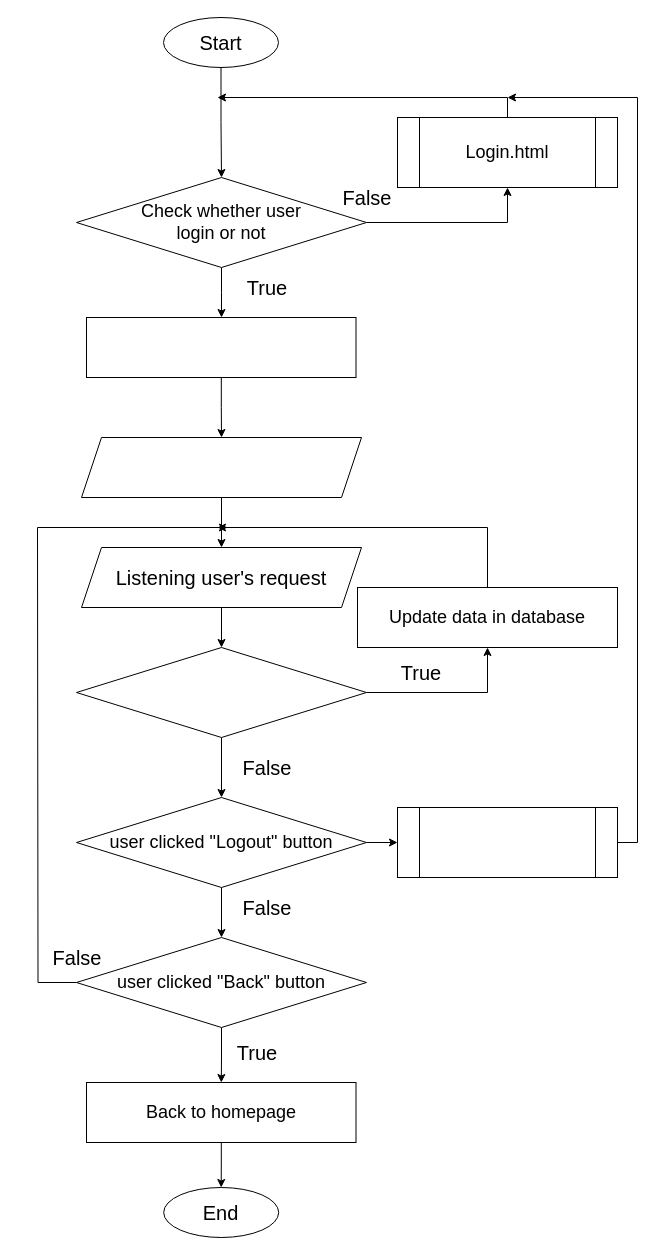
Image size: 663x1255. Some labels were removed from this diagram. The shapes that lost their labels are listed below. From the top down, each one's centre as x and y in pixels, then its label:
pixel 221 347: Connect with database
pixel 221 467: Display the username and booking information
pixel 221 692: user clicked "Cancel this booking" button
pixel 507 842: Logout
